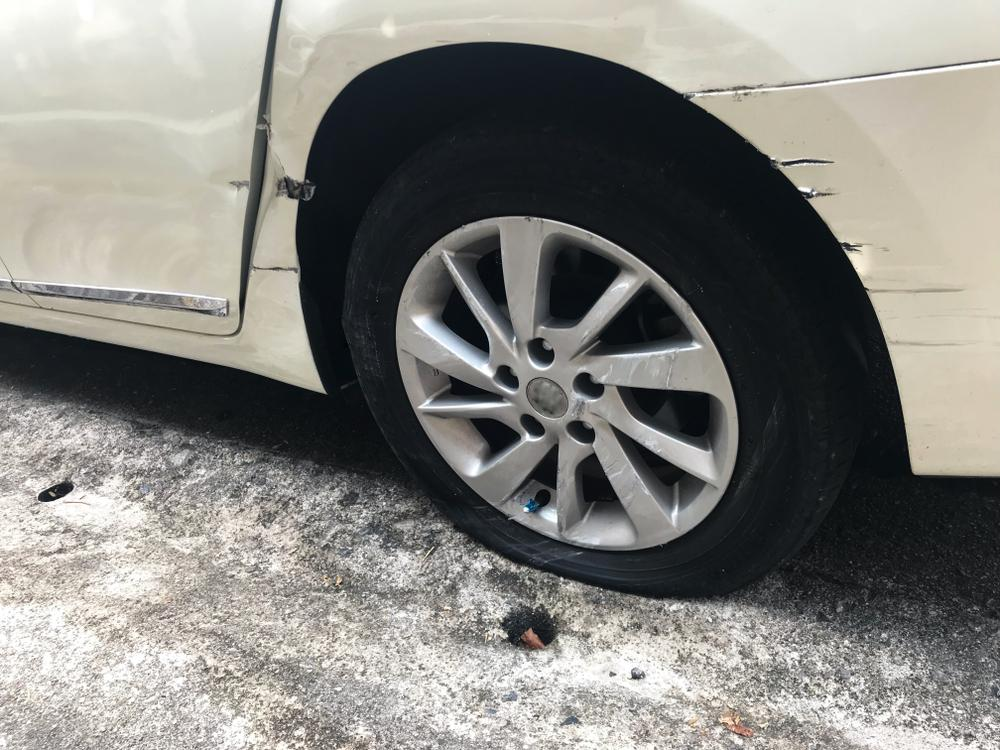scratch: (771, 154, 991, 354)
tire flat: (341, 114, 865, 601)
